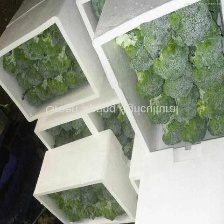foam_box: (88, 0, 224, 159), (0, 0, 106, 125), (28, 126, 144, 224)
